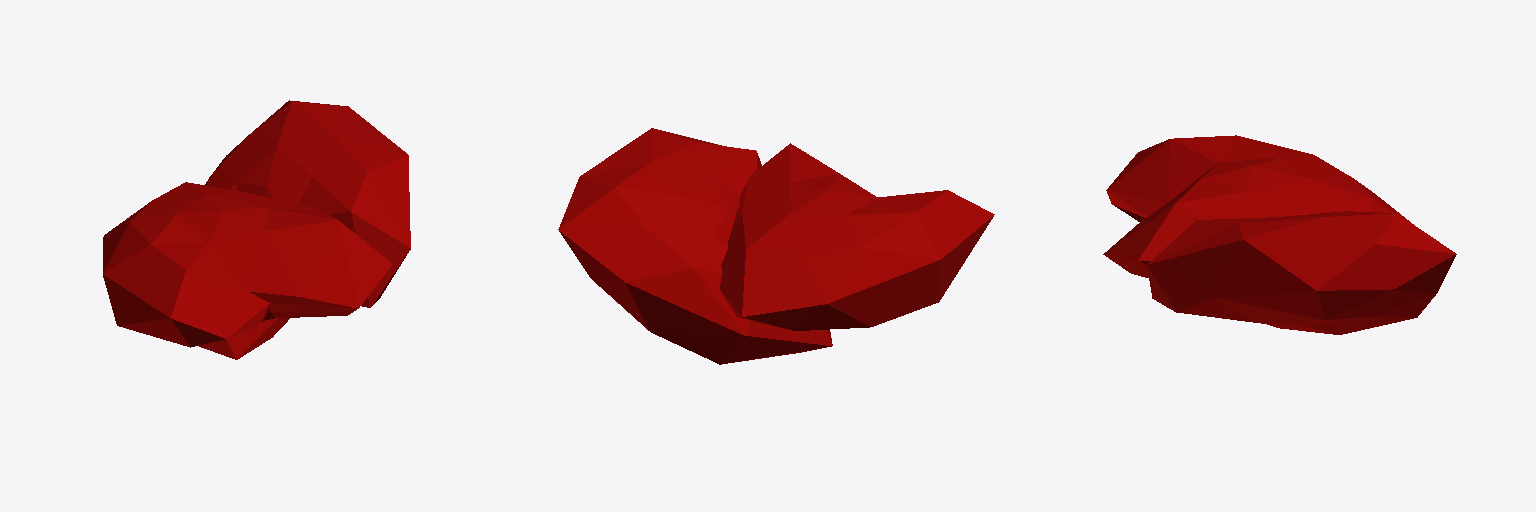
The model's file is heart_bundle.obj.
3 views of the same model, side by side, from view 1: azimuth 30°, elevation 25°; view 2: azimuth 150°, elevation 25°; view 3: azimuth 270°, elevation 25° (orthographic).
Parts seen in each view (by area): view 1: Icosphere_Icosphere.001, Icosphere.001_Icosphere.000; view 2: Icosphere_Icosphere.001, Icosphere.001_Icosphere.000; view 3: Icosphere.001_Icosphere.000, Icosphere_Icosphere.001.
Boxes of the visible parts, x1=… form: Icosphere_Icosphere.001: x1=103, y1=182, x2=392, y2=347; Icosphere.001_Icosphere.000: x1=199, y1=100, x2=410, y2=359; Icosphere_Icosphere.001: x1=720, y1=143, x2=994, y2=330; Icosphere.001_Icosphere.000: x1=558, y1=128, x2=832, y2=364; Icosphere.001_Icosphere.000: x1=1147, y1=211, x2=1456, y2=334; Icosphere_Icosphere.001: x1=1103, y1=135, x2=1413, y2=277.
Bounding box in the file's own units: 2.59 × 1.34 × 2.43.